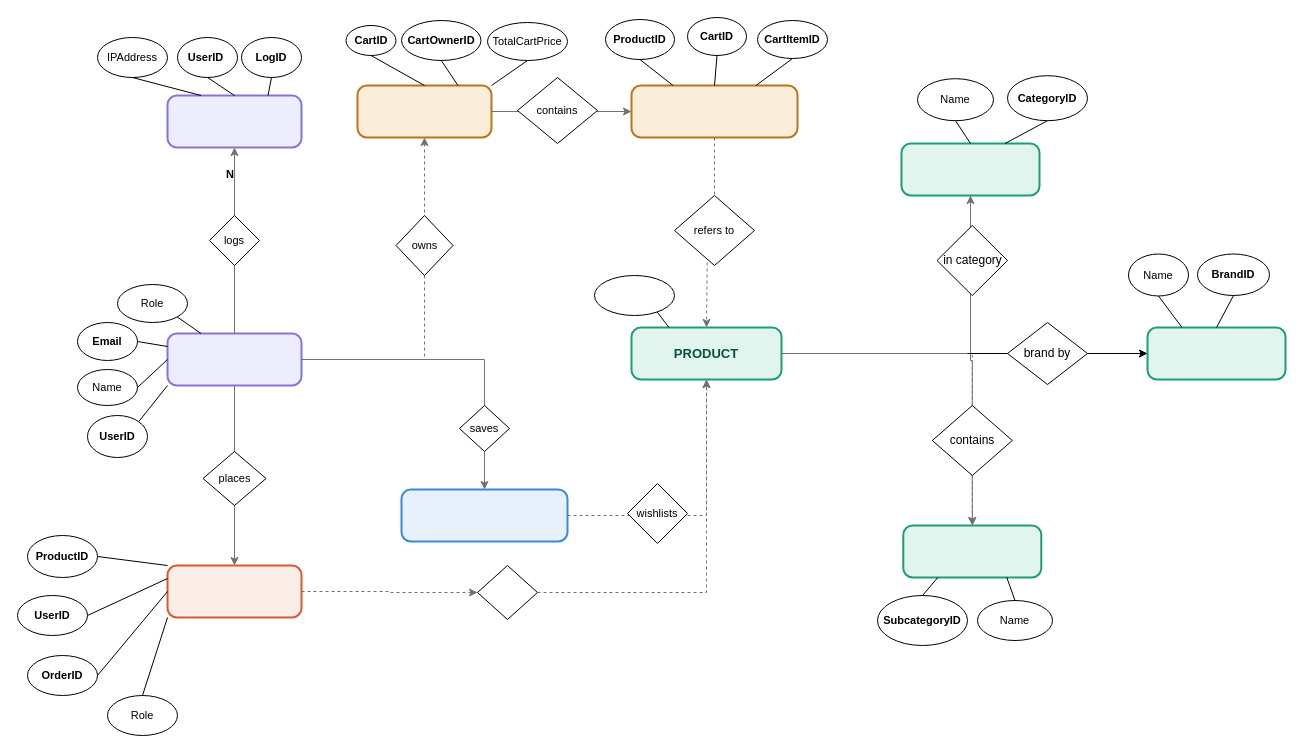
This 1304x753 diagram has some shape labels left out. The shapes that lost their labels are listed below. From the top down, each one's centre as x and y in pixels, then its label:
At point 234,121: "AUDIT LOG".
At point 424,111: "CART".
At point 714,111: "CART ITEM".
At point 970,169: "CATEGORY".
At point 634,295: "WishlistItemID".
At point 234,359: "USER".
At point 1216,353: "BRAND".
At point 484,515: "WISHLIST ITEM".
At point 972,551: "SUBCATEGORY".
At point 234,591: "ORDER".
At point 507,592: "orders".
